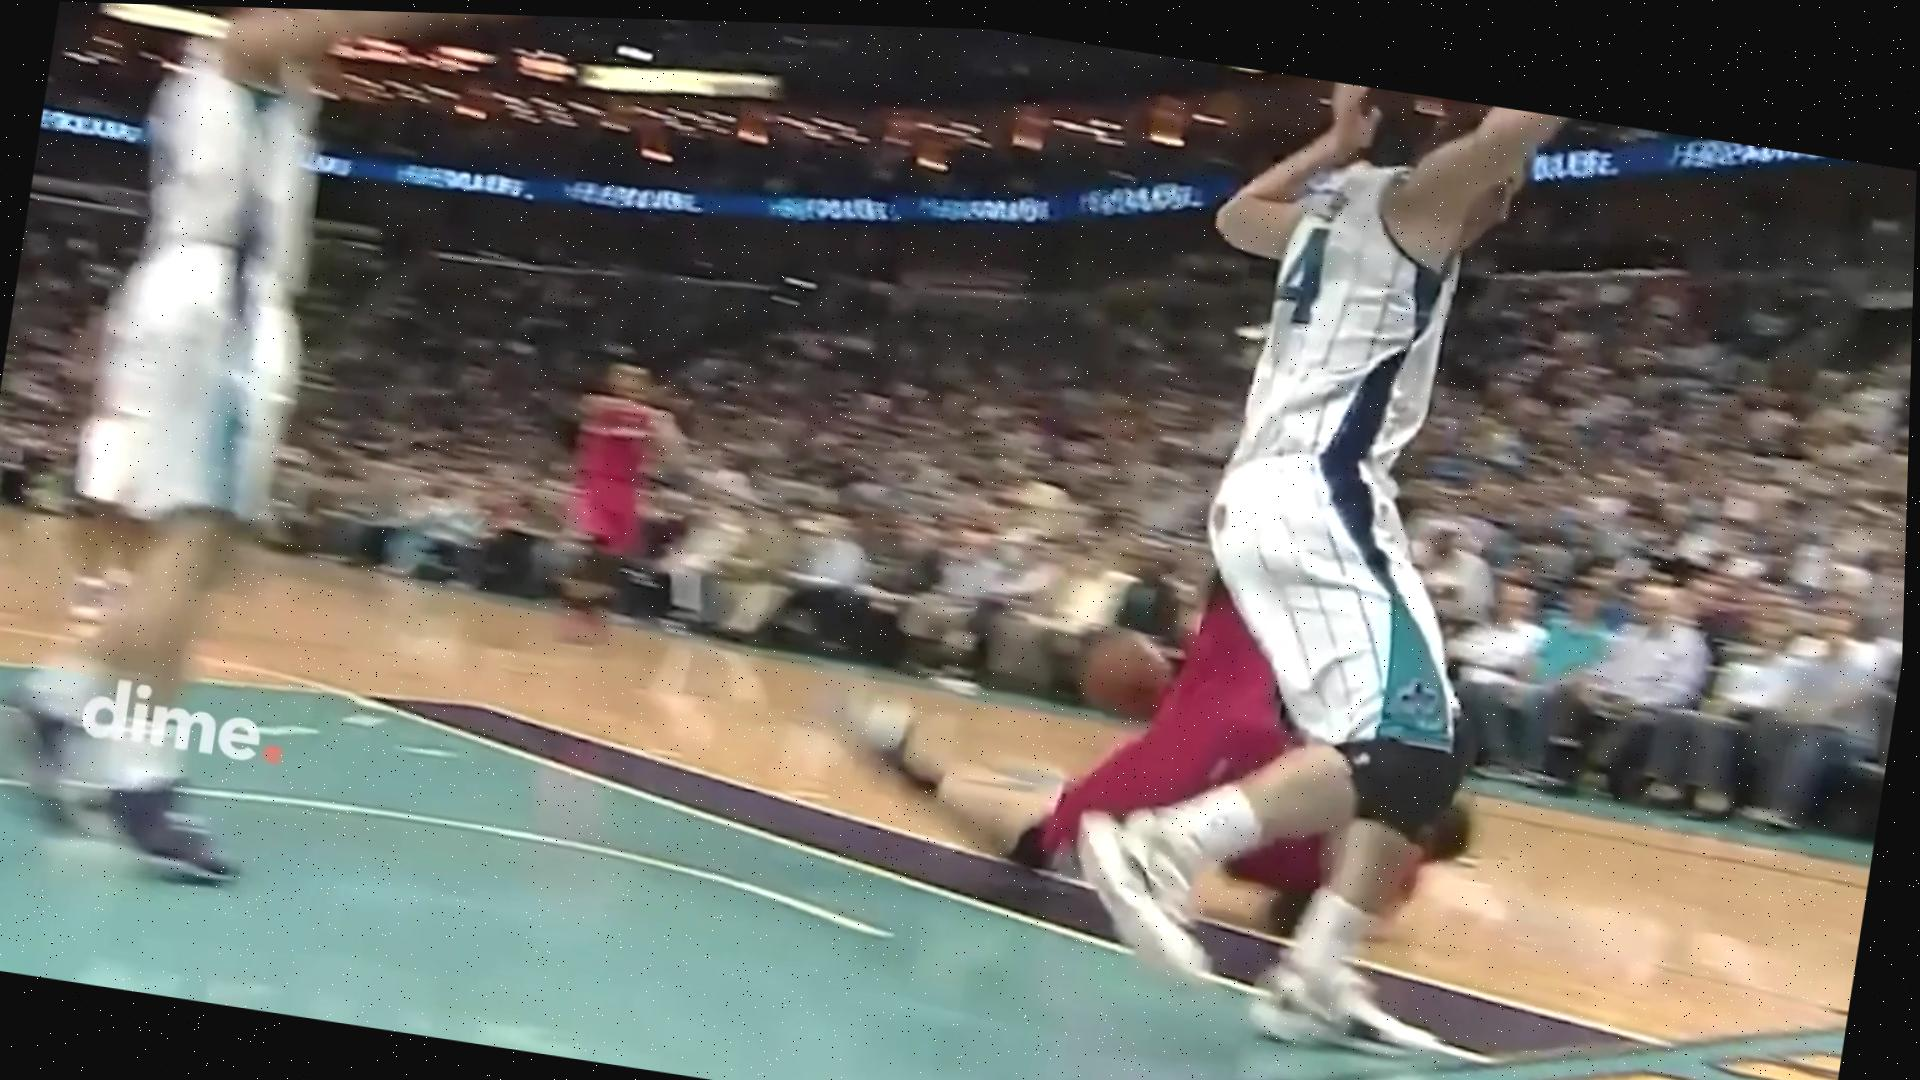foul: (956, 79, 1571, 1025)
